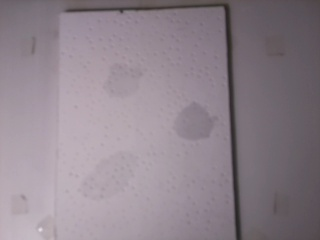Water_detected: (99, 152, 138, 190), (179, 114, 216, 143), (101, 68, 136, 91)
